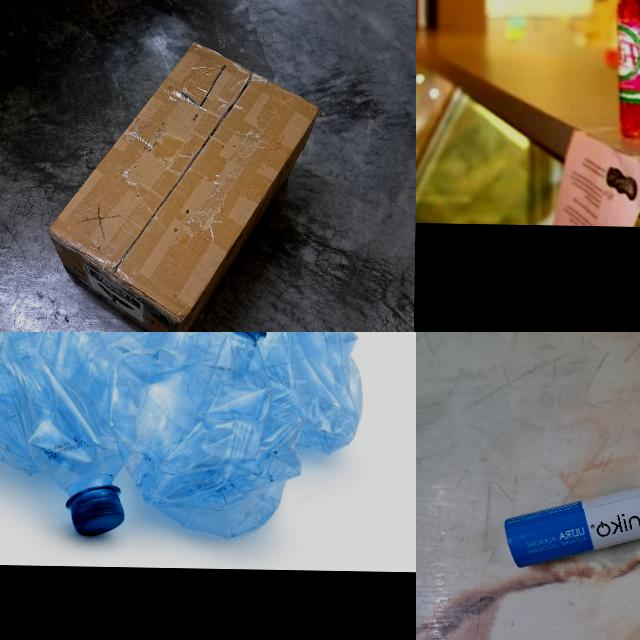bateria: (501, 472, 640, 571)
garrafa de vidro: (614, 0, 640, 139)
garrafa plástica: (110, 332, 301, 537), (0, 332, 127, 496), (232, 332, 364, 454), (50, 332, 208, 381)
papelão: (48, 37, 317, 332)
tampa plástica: (71, 497, 123, 538)
